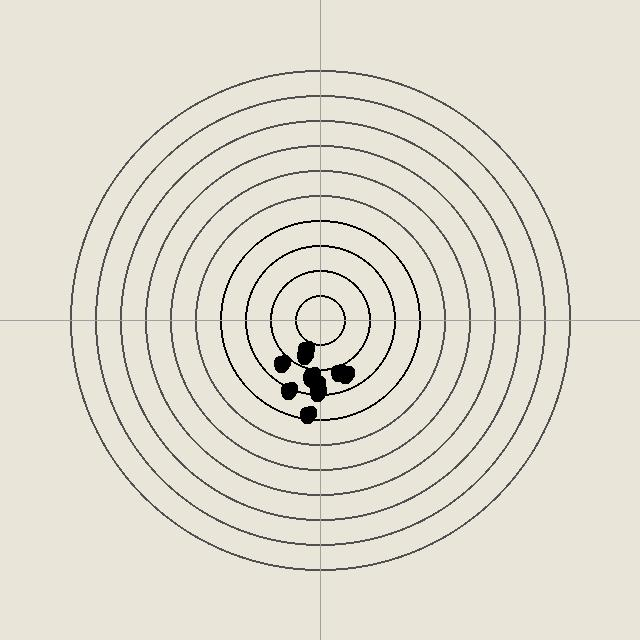good_group: (278, 380, 298, 400), (307, 382, 327, 402), (300, 367, 320, 387), (328, 362, 348, 382), (271, 353, 291, 373), (297, 404, 317, 424), (335, 364, 355, 384), (295, 339, 315, 359), (301, 365, 321, 385), (294, 345, 314, 365), (306, 374, 326, 394)
